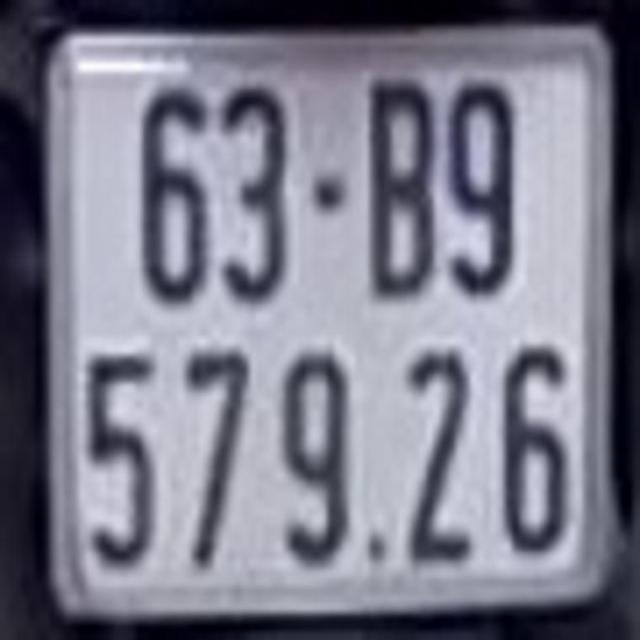2: (402, 343, 478, 568)
3: (218, 76, 292, 312)
5: (79, 348, 161, 576)
6: (130, 76, 210, 306), (500, 338, 568, 553)
7: (176, 344, 250, 569)
9: (272, 345, 352, 562), (446, 73, 522, 297)
B: (362, 66, 439, 298)
